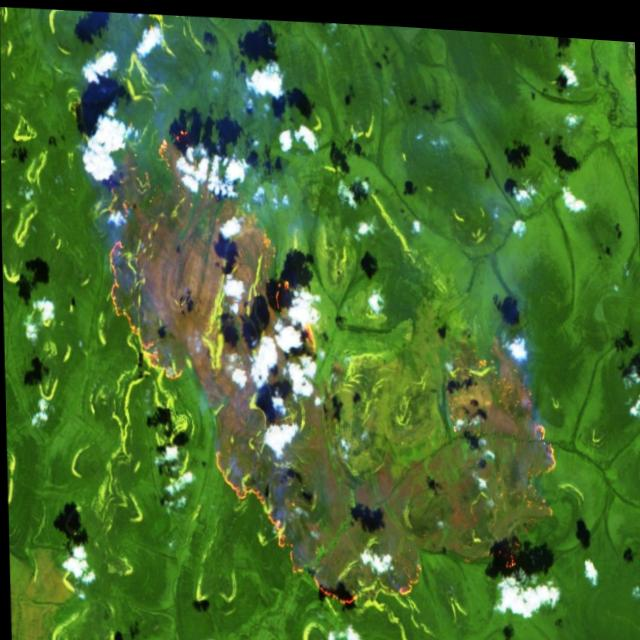fire: (88, 98, 445, 621), (433, 313, 566, 580)
